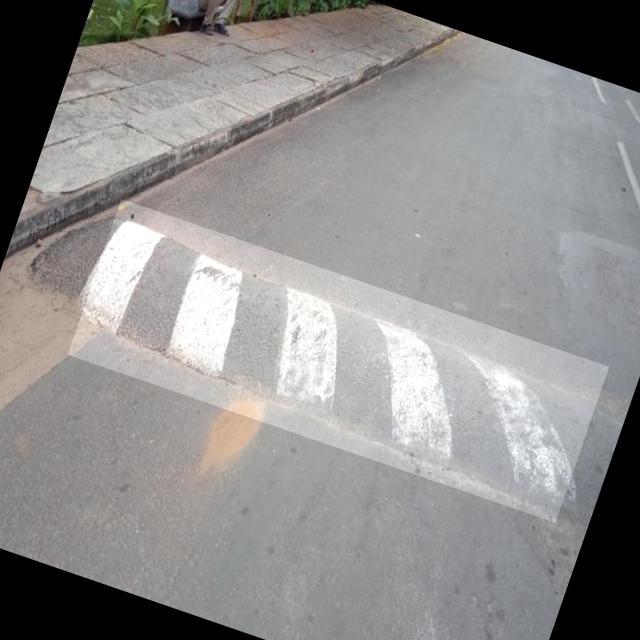bump: (67, 198, 609, 522)
